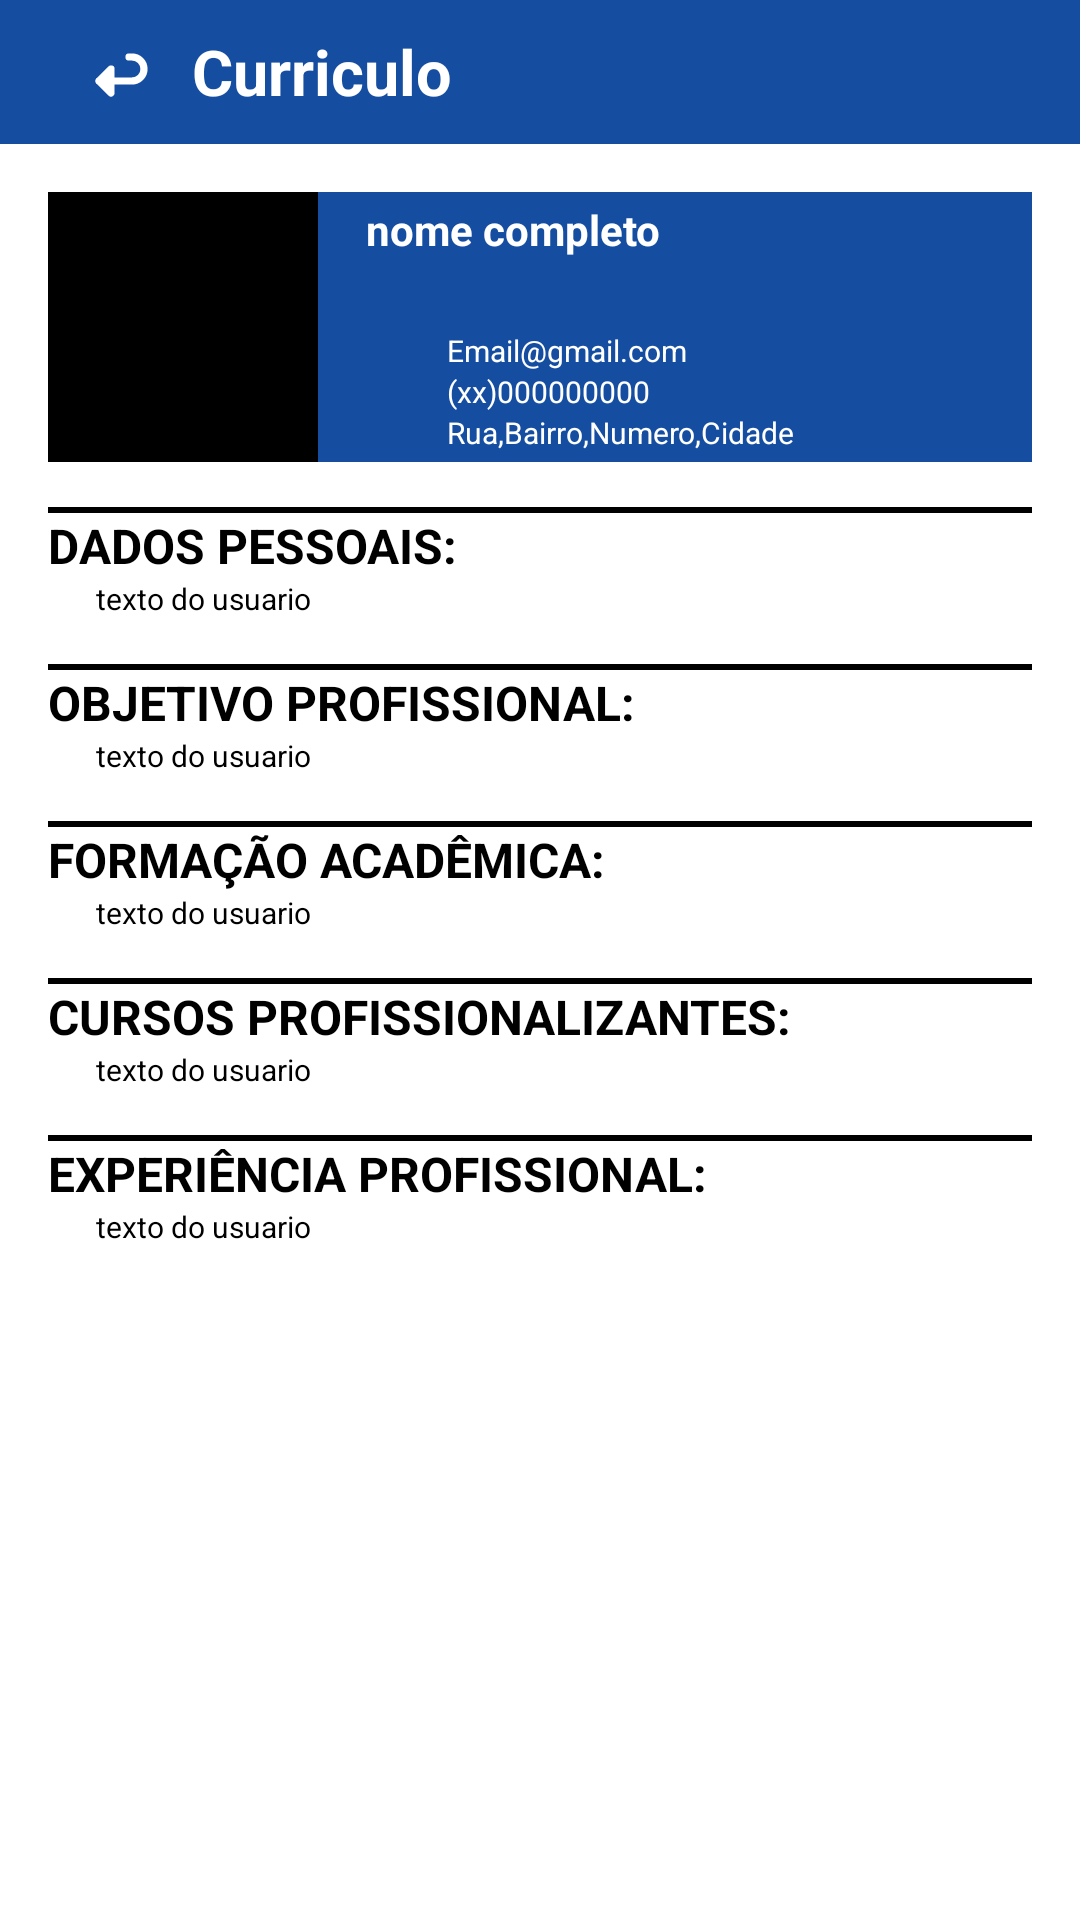

Named icons in this screenshot (1080px x 1920px) and their centers, (x,y):
back: (121,75)
